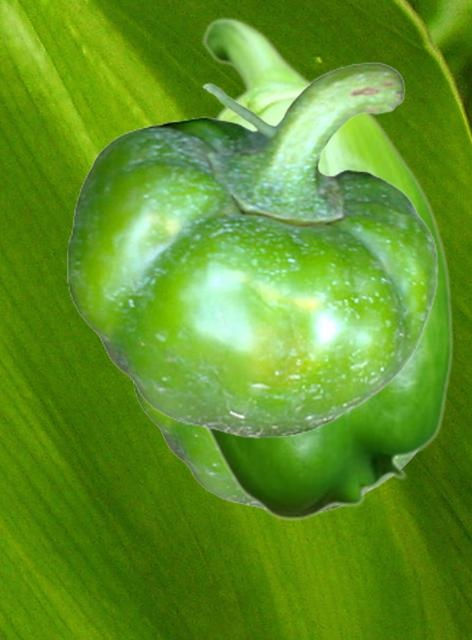bell_pepper: (67, 61, 437, 437), (198, 17, 453, 520), (133, 383, 418, 513)
